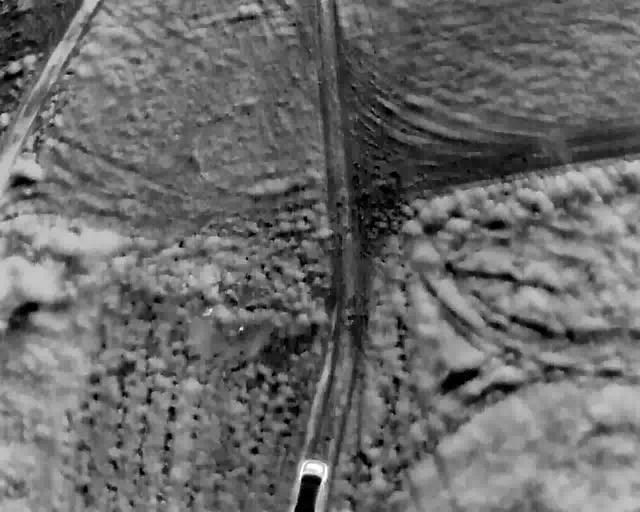car: (290, 458, 327, 512)
